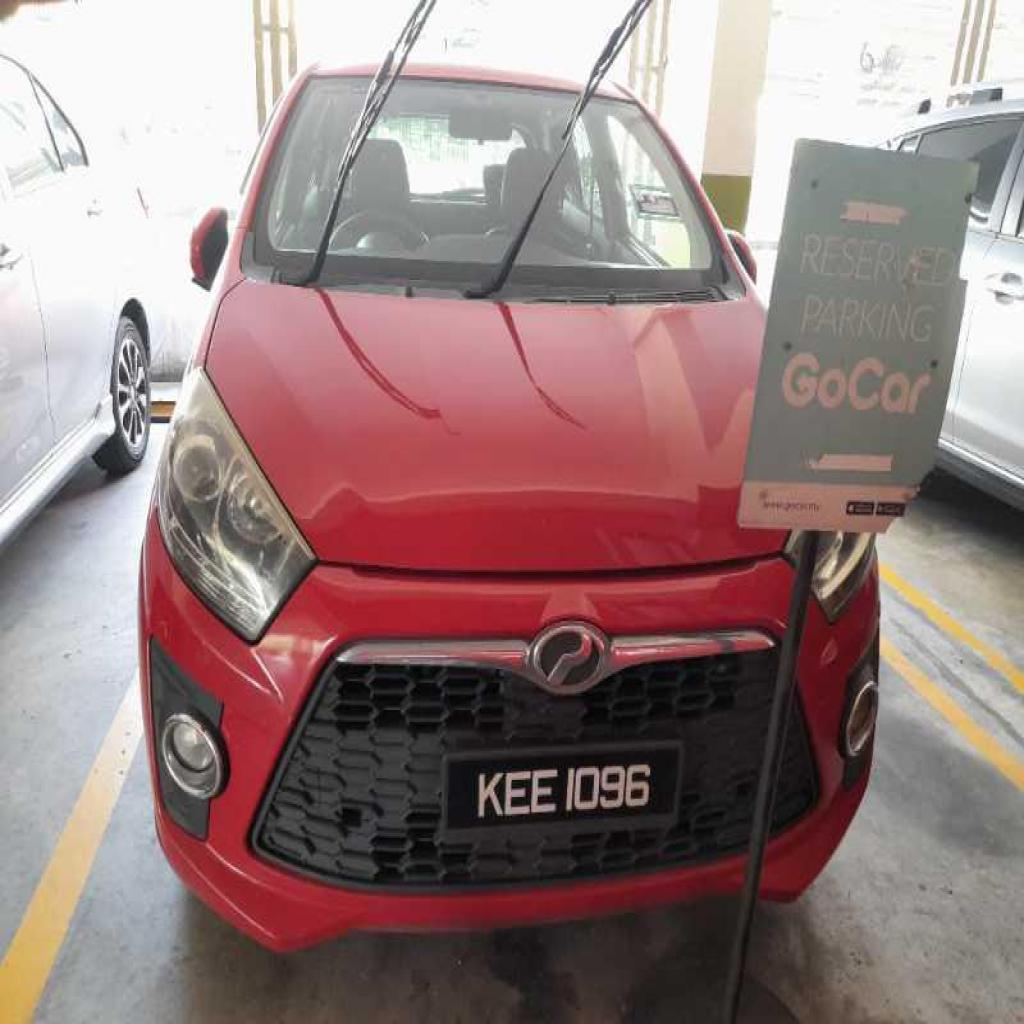car: (140, 65, 792, 947)
car plate: (443, 739, 681, 833)
